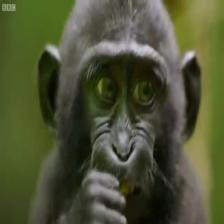monkey: (38, 0, 205, 224)
